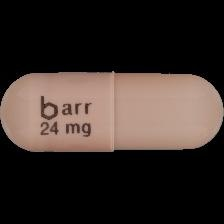0555-1022: (0, 0, 224, 224)
